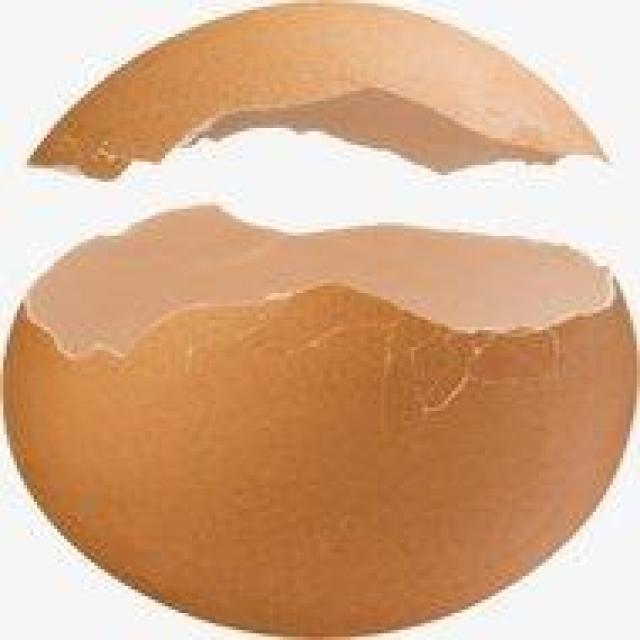organic: (0, 202, 640, 640), (24, 0, 616, 185)
